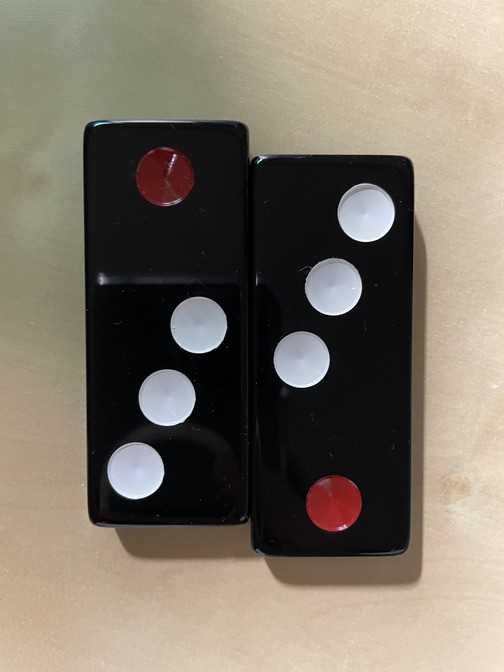goose: (85, 123, 255, 528), (250, 154, 414, 559)
